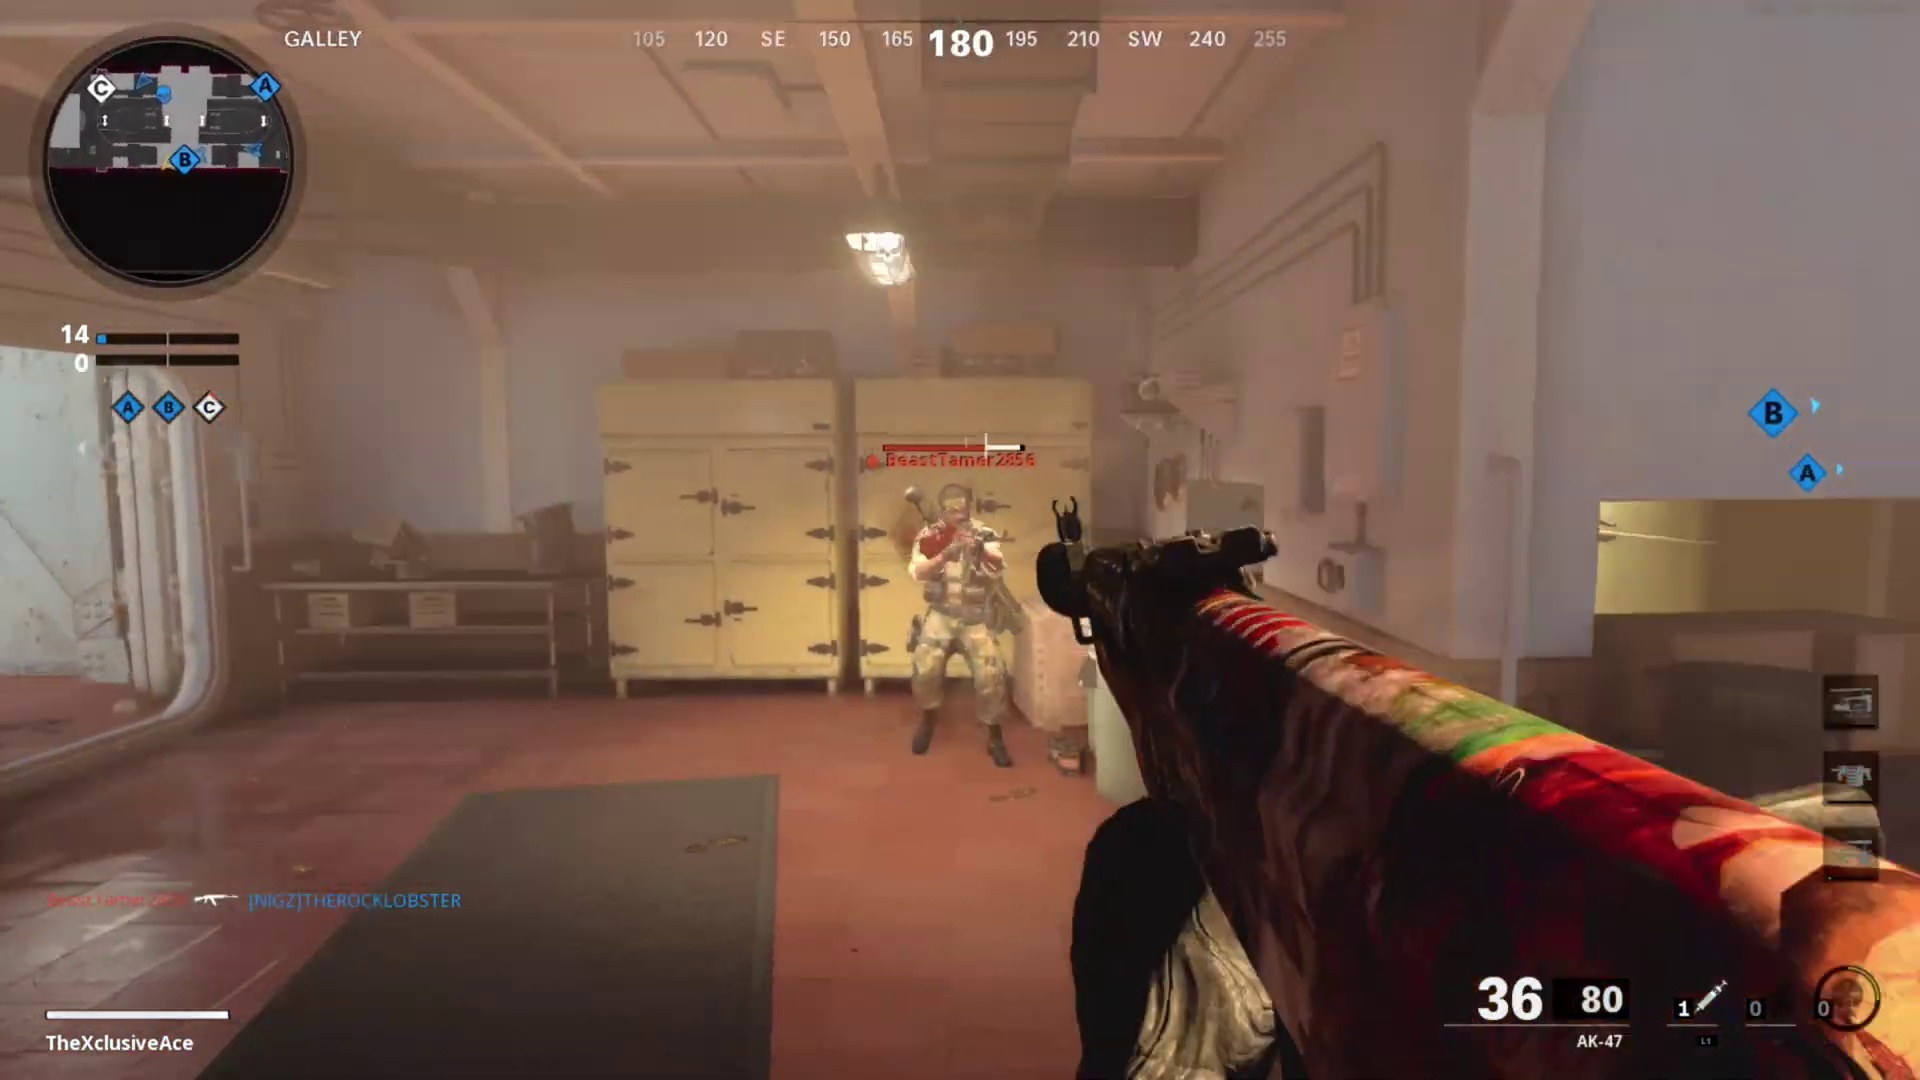head: (931, 482, 976, 540)
person: (903, 484, 1029, 769)
